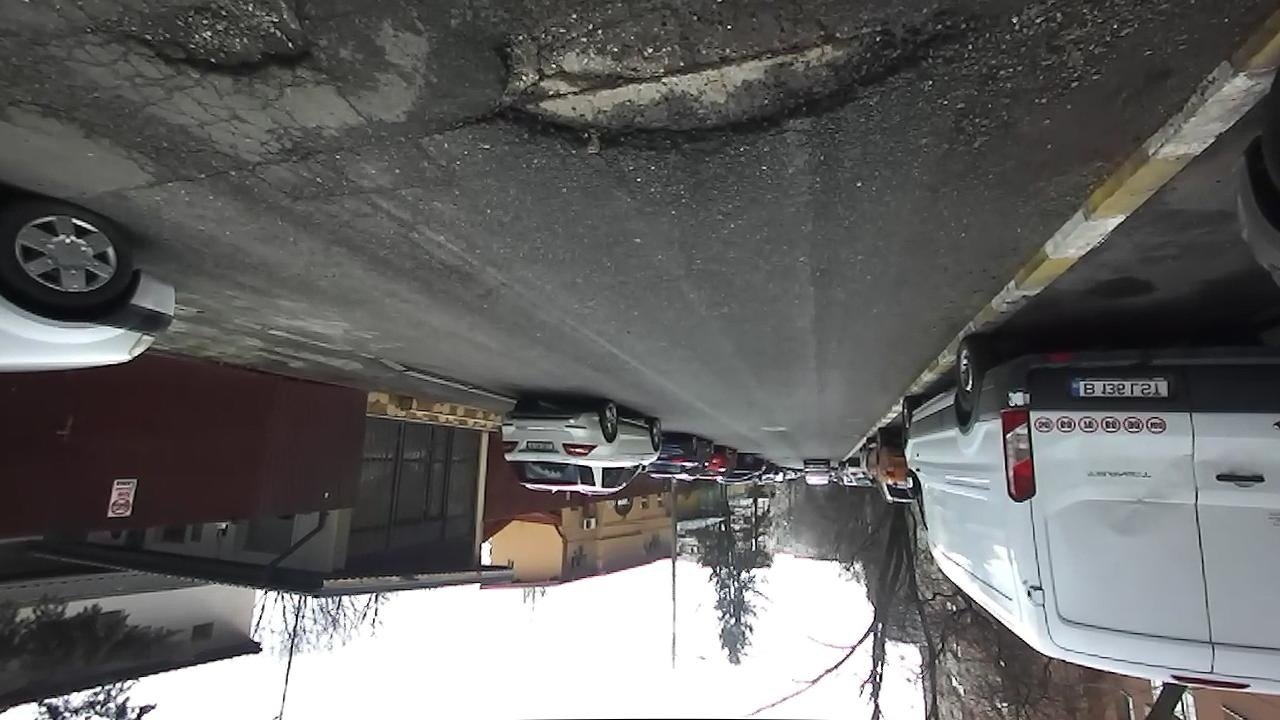pothole: (455, 0, 1016, 161), (78, 0, 311, 84)
